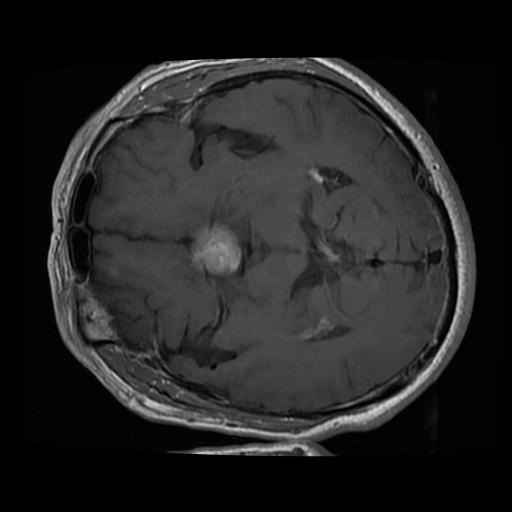pituitary tumour: (187, 221, 242, 277)
